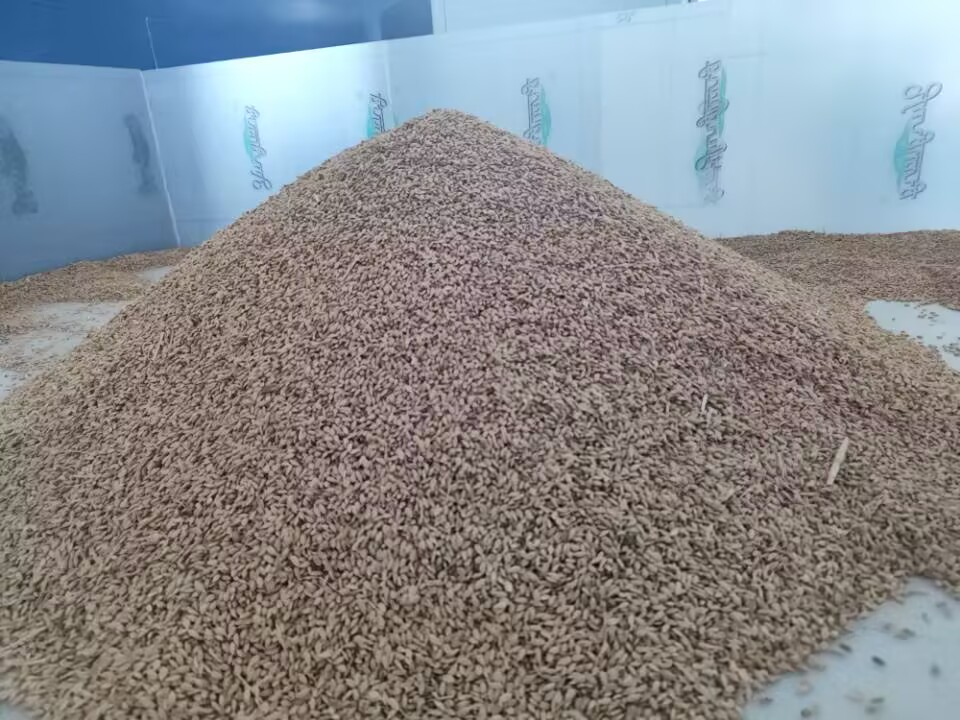Grain: (99, 99, 908, 647)
